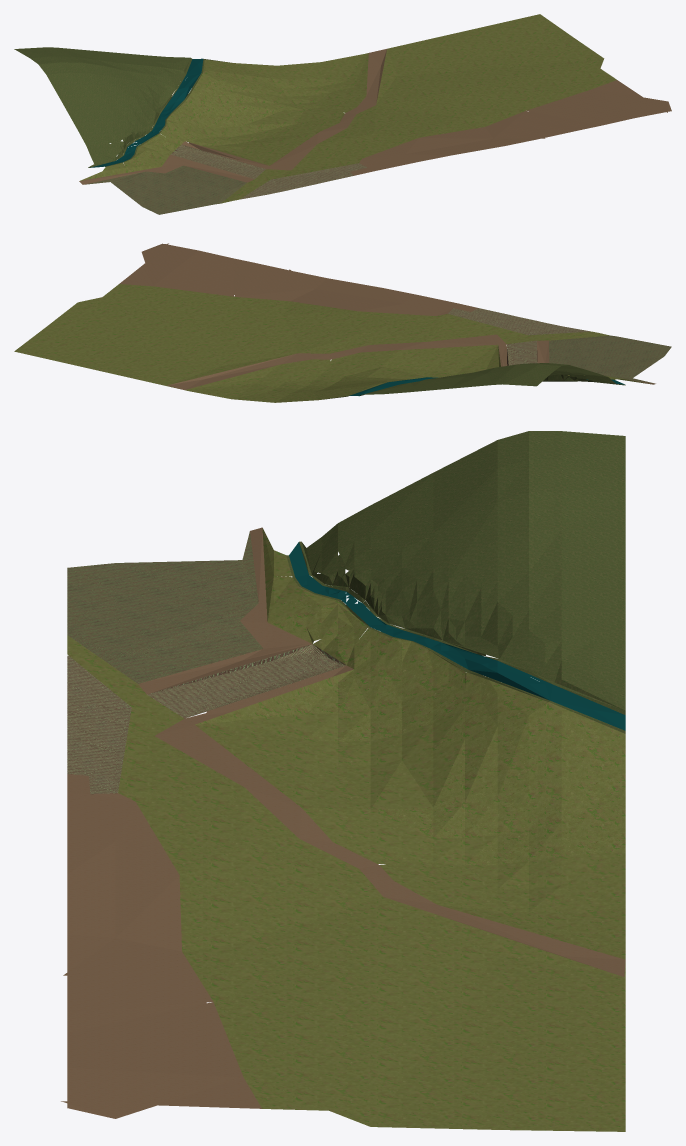
The model's file is Terreno003.fbx.
The picture shows the model from 3 angles, top to bottom: view 1: azimuth 30°, elevation 25°; view 2: azimuth 150°, elevation 25°; view 3: azimuth 270°, elevation 25°; orthographic projection. The views are drawn at different scales.
Visible parts, largest first — view 1: Terreno.003; view 2: Terreno.003; view 3: Terreno.003.
Part boxes in pixels (x1,y1,x2,y2): Terreno.003: [14, 14, 671, 214]; Terreno.003: [14, 243, 671, 402]; Terreno.003: [61, 431, 625, 1131].
Size of the model in its own units: 45405 by 7529 by 20247.
